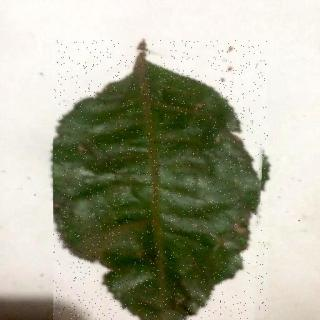Red Leaf Spot: (54, 41, 269, 320)
